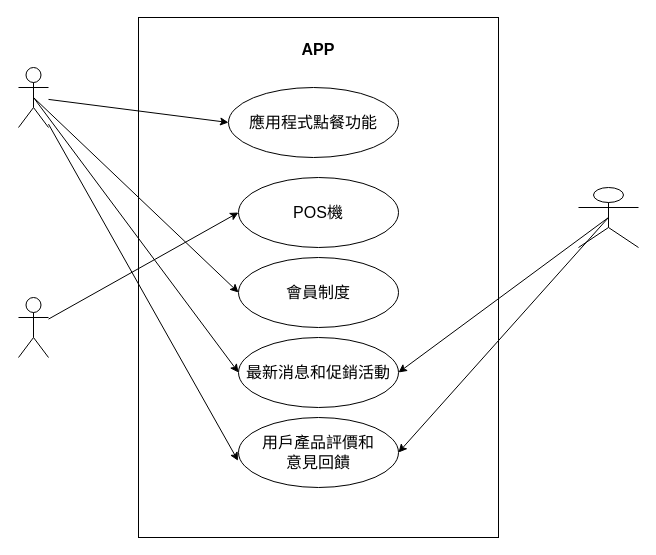
The diagram is 656 pixels wide and 555 high, and some of its shapes have lost their labels. The centre of each missing label's shape, as x and y in pixels:
"60嵐" goes at (608,217).
"員工" goes at (33,327).
"顧客" goes at (33,97).
